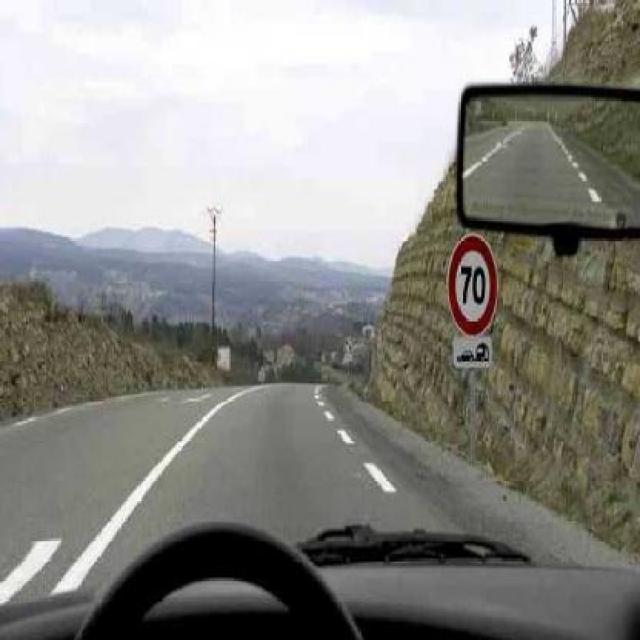forb_speed_over_70: (452, 234, 495, 334)
